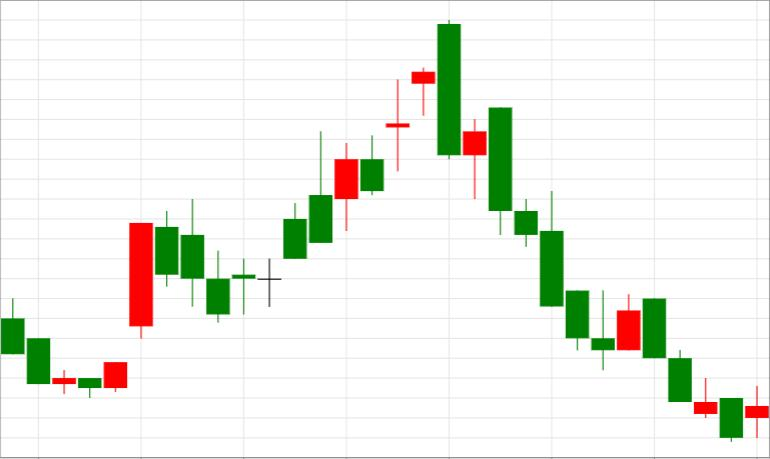bearish_engulfing_fall: (257, 19, 461, 307)
